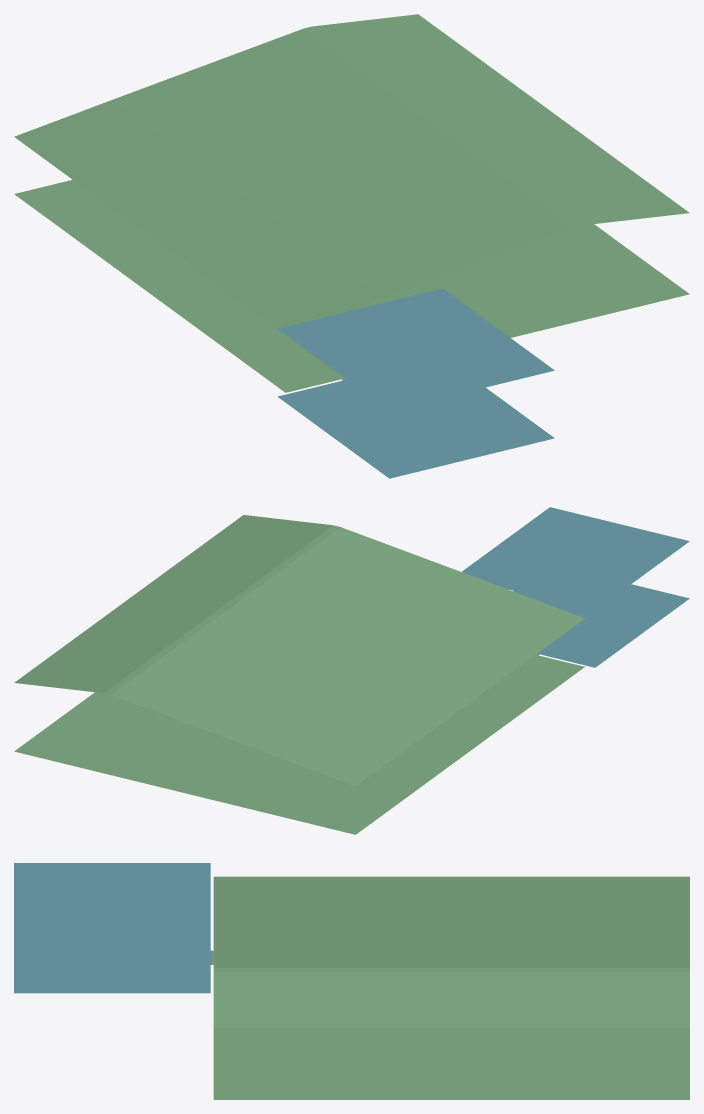
The model's file is lattiat_katot.fbx.
3 views of the same model, one above another, from view 1: azimuth 30°, elevation 25°; view 2: azimuth 150°, elevation 25°; view 3: azimuth 270°, elevation 25° (orthographic). The views are drawn at different scales.
Visible parts, largest first — view 1: polySurface3, polySurface1, polySurface7, polySurface5; view 2: polySurface3, polySurface1, polySurface7, polySurface5; view 3: polySurface3, polySurface1, polySurface7, polySurface5.
Boxes of the visible parts, x1,y1,x2,y2 form: polySurface3: (14, 14, 689, 335); polySurface1: (14, 180, 689, 392); polySurface7: (277, 288, 554, 410); polySurface5: (277, 379, 554, 478); polySurface3: (14, 515, 584, 786); polySurface1: (14, 654, 584, 834); polySurface7: (462, 507, 689, 610); polySurface5: (513, 584, 689, 667); polySurface3: (213, 876, 689, 1028); polySurface1: (212, 950, 689, 1099); polySurface7: (14, 863, 210, 933); polySurface5: (14, 934, 212, 993).
Bounding box in the file's own units: 1752 × 383 × 2823.
